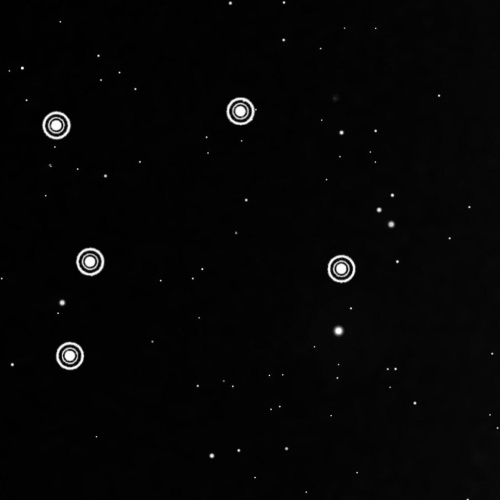libra: (29, 91, 362, 380)
